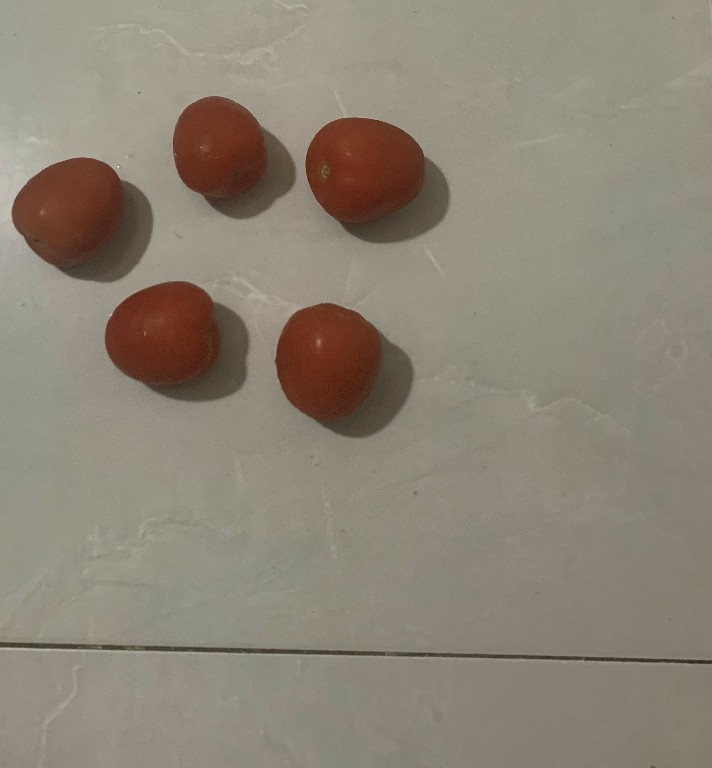OK: (272, 295, 387, 428), (298, 115, 428, 225), (104, 278, 225, 389), (11, 147, 124, 263), (171, 89, 263, 202)
